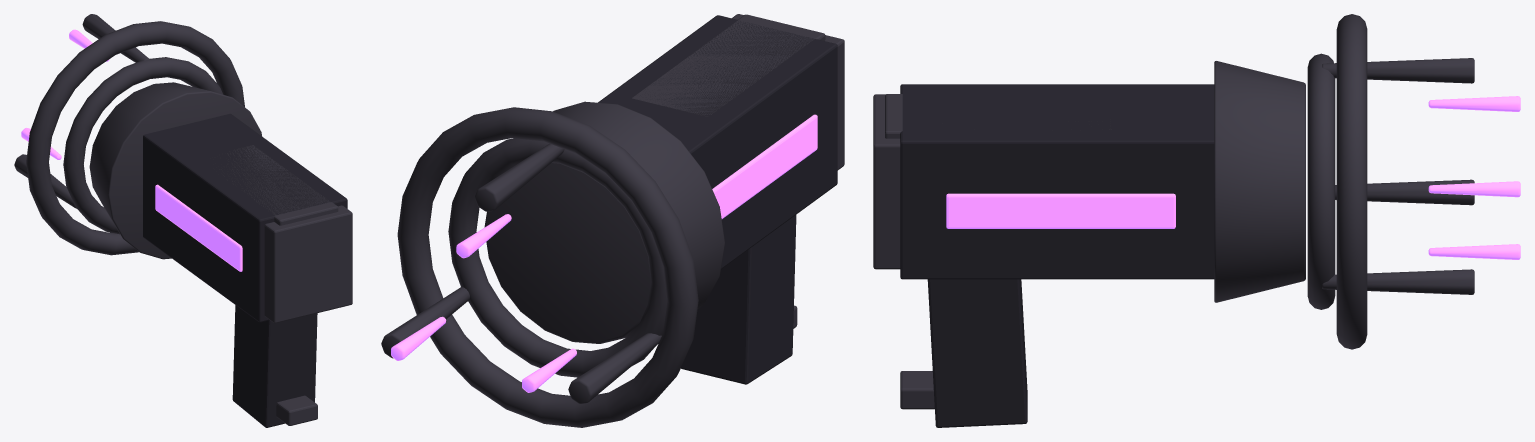
The model's file is blackhole.glb.
3 renders of one model, left to right at view 1: azimuth 30°, elevation 25°; view 2: azimuth 150°, elevation 25°; view 3: azimuth 270°, elevation 25°, orthographic. The views are drawn at different scales.
Visible parts, largest first — view 1: body; view 2: body; view 3: body.
Boxes of the visible parts, box(x1,y1,x2,y2) form: body: box(14, 14, 352, 427); body: box(381, 14, 844, 427); body: box(873, 14, 1520, 427).
Size of the model in its own units: 0.44 by 0.5527 by 0.845.
